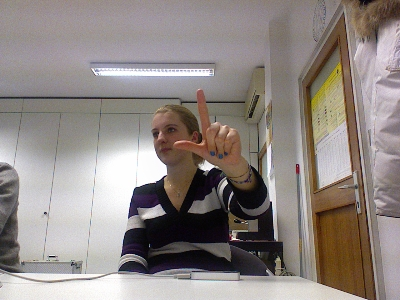枪: (171, 87, 241, 166)
